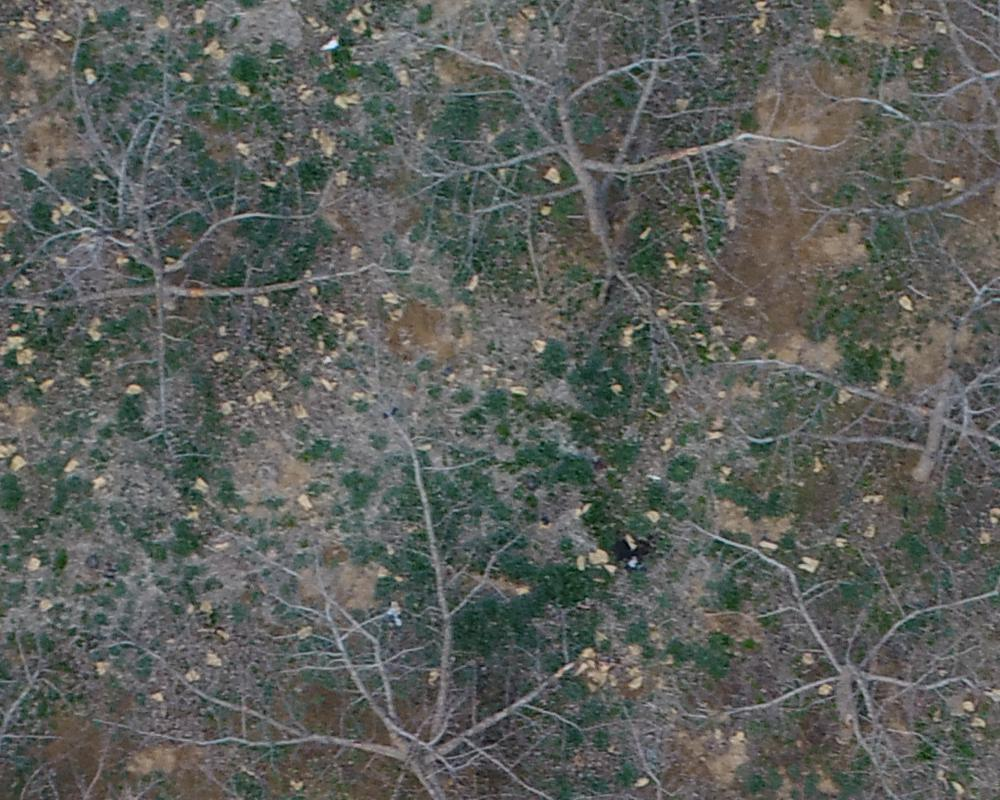apple: (194, 434, 590, 790), (384, 11, 819, 317), (10, 52, 384, 381), (691, 522, 990, 790), (754, 273, 990, 510)
